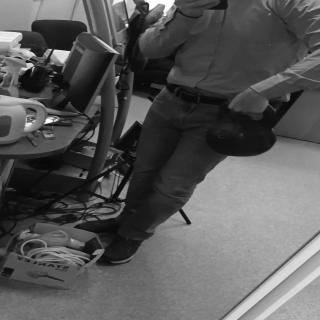girya: (207, 102, 280, 158)
